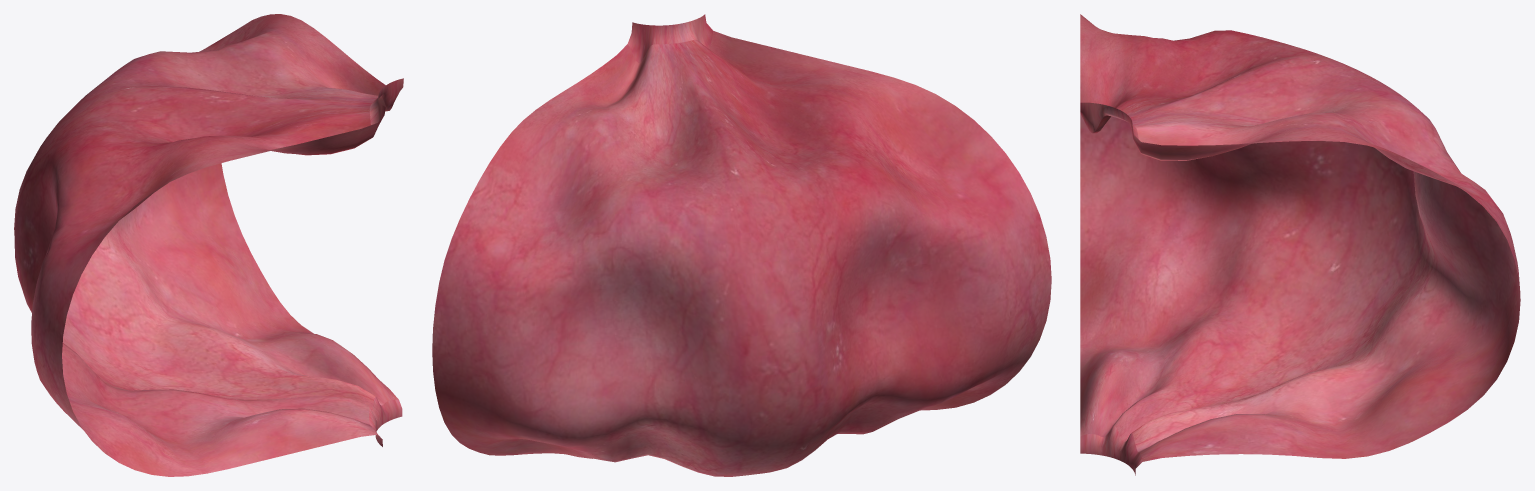
The model's file is End left part test.FBX.
The picture shows the model from 3 angles, left to right: view 1: azimuth 30°, elevation 25°; view 2: azimuth 150°, elevation 25°; view 3: azimuth 270°, elevation 25°; orthographic projection. The views are drawn at different scales.
Parts seen in each view (by area): view 1: ThroatEnvironment013; view 2: ThroatEnvironment013; view 3: ThroatEnvironment013.
Boxes of the visible parts, x1=… form: ThroatEnvironment013: x1=14, y1=14, x2=403, y2=476; ThroatEnvironment013: x1=432, y1=14, x2=1051, y2=476; ThroatEnvironment013: x1=1080, y1=14, x2=1520, y2=475.
Bounding box in the file's own units: 112 × 98.56 × 112.
